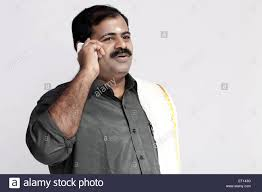talk: (75, 30, 134, 81)
